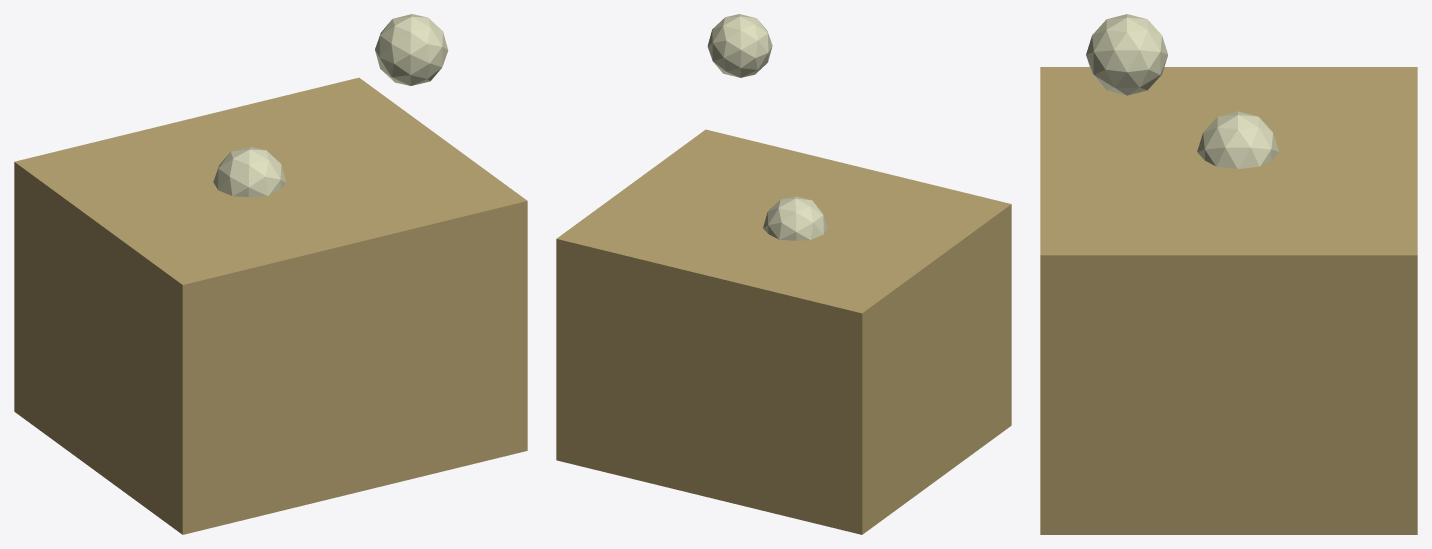
File: treasure_mimic.glb
3 views of the same model, side by side, from view 1: azimuth 30°, elevation 25°; view 2: azimuth 150°, elevation 25°; view 3: azimuth 270°, elevation 25° (orthographic). The views are drawn at different scales.
Visible parts, largest first — view 1: geometry_0; view 2: geometry_0; view 3: geometry_0.
Part boxes in pixels (<box>): geometry_0: <box>14,14,527,534</box>; geometry_0: <box>556,14,1011,534</box>; geometry_0: <box>1040,14,1417,534</box>.
Size of the model in its own units: 0.65 by 0.7646 by 0.55.
